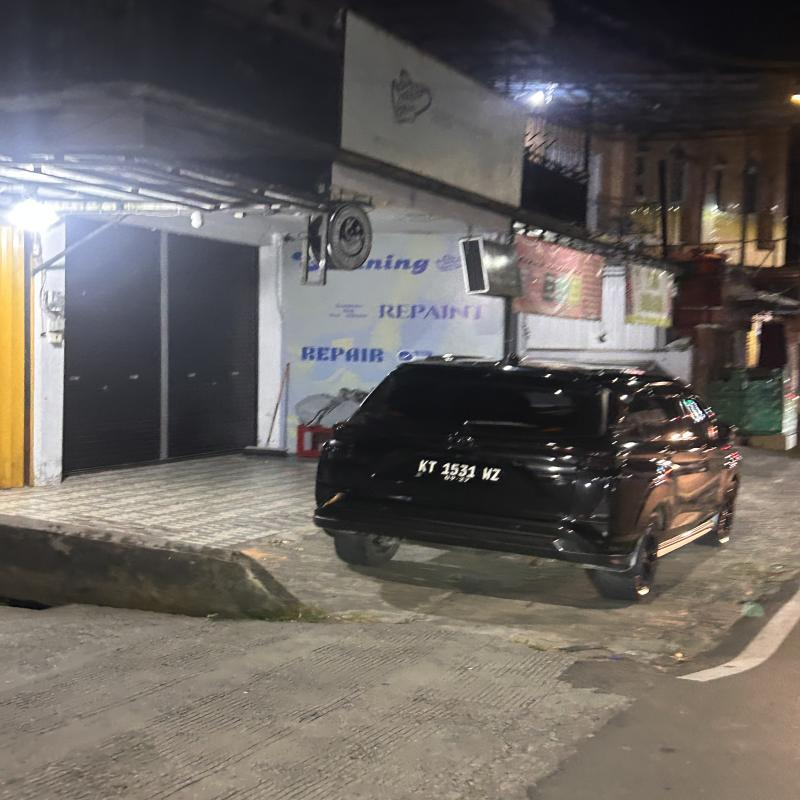license plate on a car: (421, 455, 507, 490)
